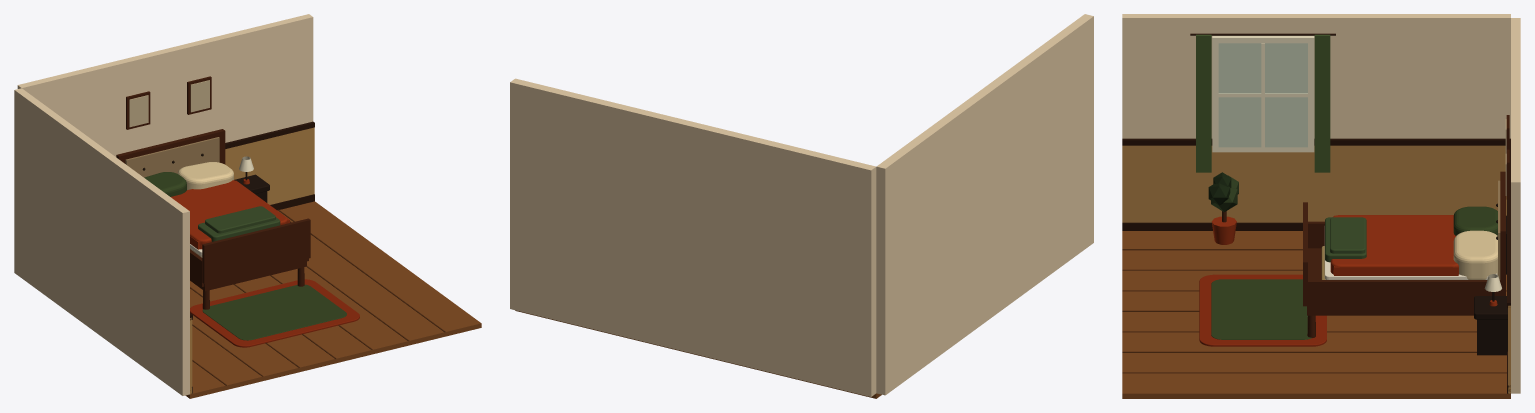
Rendered from bedroom.obj.
The picture shows the model from 3 angles, left to right: view 1: azimuth 30°, elevation 25°; view 2: azimuth 150°, elevation 25°; view 3: azimuth 270°, elevation 25°; orthographic projection. The views are drawn at different scales.
Visible parts, largest first — view 1: wall_side, wall_back, floor, rug_fill, frame_footboard, wall_back_wainscot, comforter_top, rug_border, frame_headboard_upholstery, pillow_body, blanket_layer_1, frame_headboard (+5 smaller); view 2: wall_back, wall_side; view 3: floor, wall_side, wall_side_wainscot, window_trim, window_glass, rug_fill, frame_side_rail_1, comforter_top, wall_back, pillow_body, rug_border, curtain_0 (+24 smaller).
Boxes of the visible parts, x1,y1,x2,y2 form: wall_side: [14, 88, 189, 395]; wall_back: [17, 14, 313, 156]; floor: [185, 201, 481, 398]; rug_fill: [202, 284, 346, 340]; frame_footboard: [202, 218, 310, 283]; wall_back_wainscot: [225, 127, 314, 204]; comforter_top: [171, 180, 287, 248]; rug_border: [190, 279, 359, 347]; frame_headboard_upholstery: [125, 137, 219, 177]; pillow_body: [144, 162, 233, 196]; blanket_layer_1: [205, 206, 275, 233]; frame_headboard: [116, 129, 225, 164]; wall_back: [510, 78, 876, 396]; wall_side: [876, 14, 1093, 395]; floor: [1122, 231, 1510, 398]; wall_side: [1122, 14, 1510, 138]; wall_side_wainscot: [1122, 145, 1506, 222]; window_trim: [1212, 36, 1314, 152]; window_glass: [1218, 43, 1307, 147]; rug_fill: [1211, 279, 1311, 339]; frame_side_rail_1: [1308, 280, 1500, 311]; comforter_top: [1330, 215, 1458, 274]; wall_back: [1511, 18, 1520, 393]; pillow_body: [1453, 206, 1497, 279]; rug_border: [1199, 274, 1326, 346]; curtain_0: [1314, 34, 1330, 172].
Bounding box in the file's own units: 4.1 × 2.46 × 4.1.
